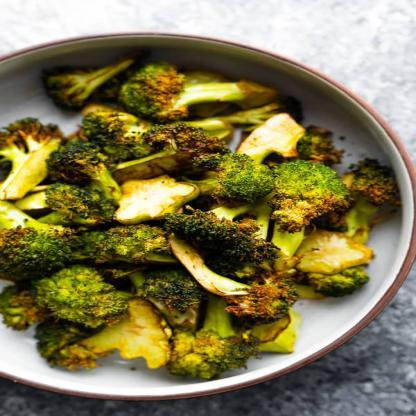broccoli: (0, 56, 403, 382)
